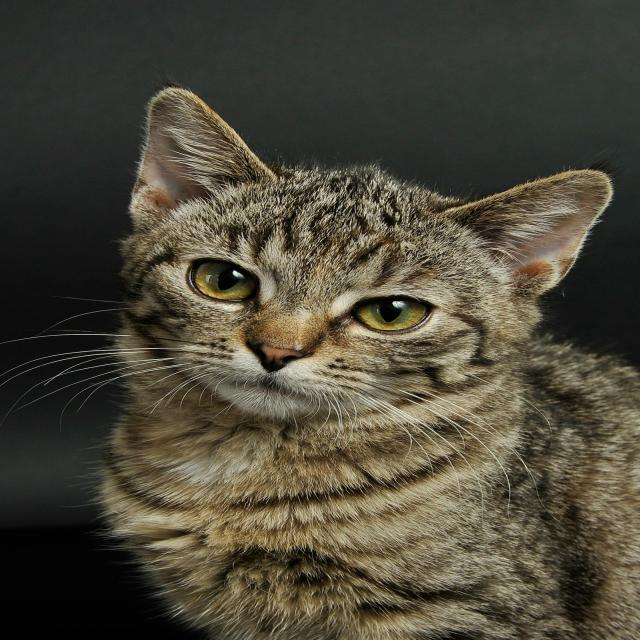Cat: (2, 81, 638, 638)
